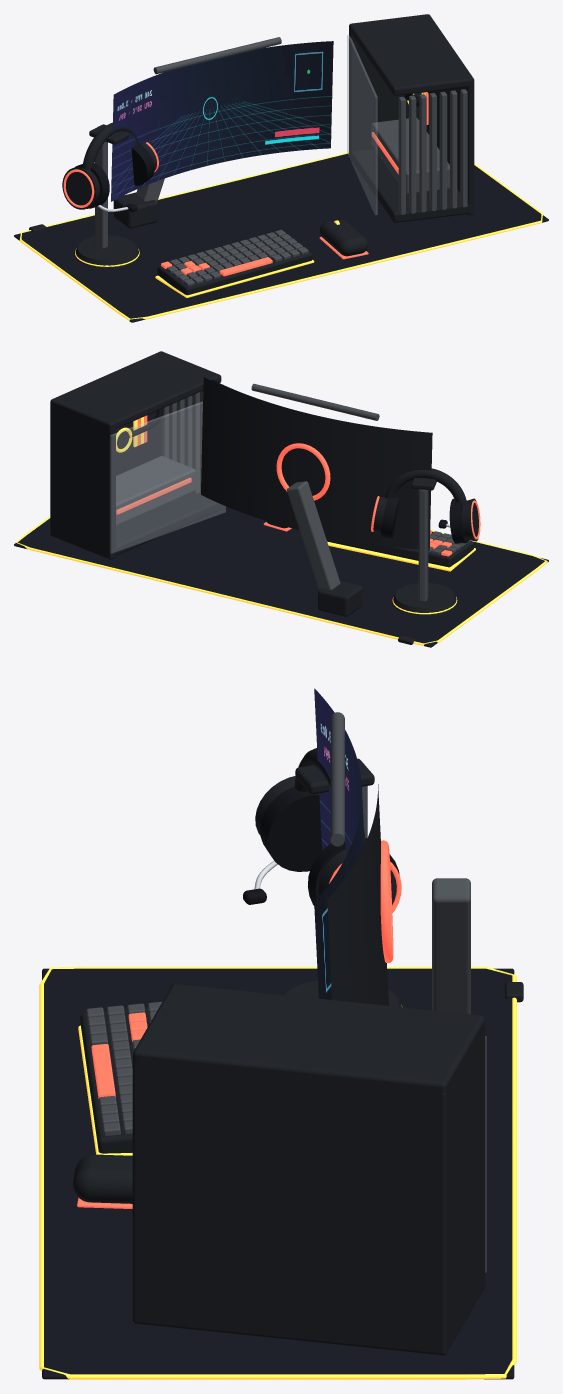
Rendered from atelier-gaming-loadout-battlestation-ember.glb.
The picture shows the model from 3 angles, top to bottom: view 1: azimuth 30°, elevation 25°; view 2: azimuth 150°, elevation 25°; view 3: azimuth 270°, elevation 25°; orthographic projection. The views are drawn at different scales.
Visible parts, largest first — view 1: object 1, Gaming curved display, object 11, object 32, object 12, object 10, object 2, object 28, object 13, object 33, object 103, object 100 (+17 smaller); view 2: object 1, object 6, object 32, object 12, object 11, object 10, object 28, object 5, object 2, object 13, object 103, object 33 (+15 smaller); view 3: object 13, object 1, object 11, object 12, object 6, object 2, Gaming curved display, object 5, object 108, object 10, object 100, object 33 (+5 smaller).
Part boxes in pixels (box(x1,y1,x2,y2)): object 1: box(14, 153, 548, 322); Gaming curved display: box(111, 41, 333, 201); object 11: box(349, 14, 474, 95); object 32: box(347, 35, 377, 214); object 12: box(349, 30, 419, 162); object 10: box(349, 149, 472, 222); object 2: box(19, 152, 543, 320); object 28: box(371, 117, 449, 194); object 13: box(426, 84, 474, 215); object 33: box(157, 234, 312, 295); object 103: box(74, 235, 139, 268); object 100: box(320, 219, 368, 256); object 1: box(14, 504, 548, 647); object 6: box(201, 377, 432, 550); object 32: box(110, 401, 225, 553); object 12: box(52, 407, 115, 559); object 11: box(50, 351, 221, 429); object 10: box(51, 492, 221, 556); object 28: box(116, 456, 195, 525); object 5: box(287, 481, 340, 589); object 2: box(15, 516, 547, 645); object 13: box(50, 405, 161, 536); object 103: box(392, 583, 457, 615); object 33: box(325, 532, 474, 567); object 13: box(132, 1061, 448, 1355); object 1: box(42, 968, 514, 1379); object 11: box(133, 984, 484, 1095); object 12: box(432, 1027, 485, 1355); object 6: box(327, 784, 388, 1005); object 2: box(39, 966, 516, 1379); Gaming curved display: box(314, 688, 364, 999); object 5: box(432, 878, 470, 1014); object 108: box(260, 786, 321, 871); object 10: box(136, 1271, 484, 1349); object 100: box(73, 1154, 132, 1203); object 33: box(80, 1007, 149, 1153).
Bounding box in the file's own units: 0.9452 × 0.3823 × 0.4716.
9 materials, 1 textured.
